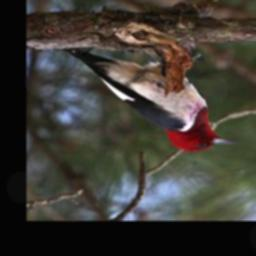Woodpecker: (52, 48, 241, 154)
